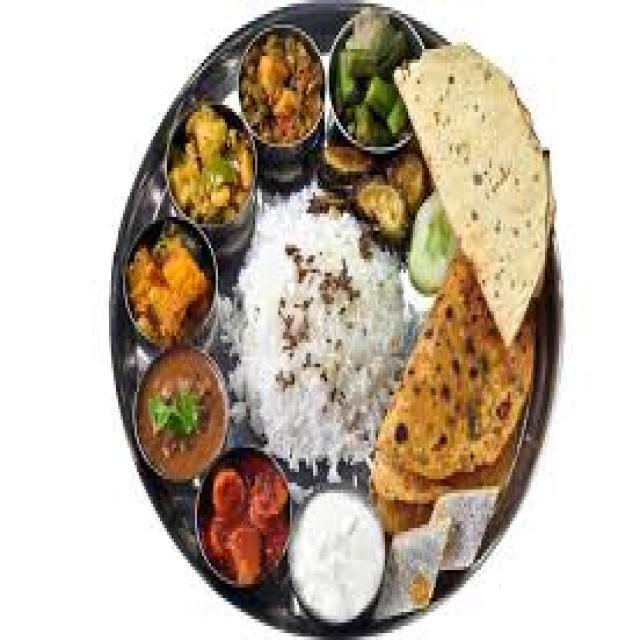papad: (367, 272, 532, 524), (404, 35, 546, 277)
roti: (238, 206, 404, 467), (373, 273, 530, 525)
veg-fry: (188, 432, 291, 594), (126, 342, 227, 486), (124, 212, 225, 354), (157, 95, 254, 242)
